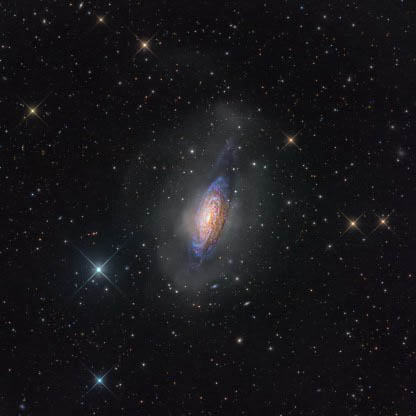NGC 3521: (126, 107, 301, 313)
